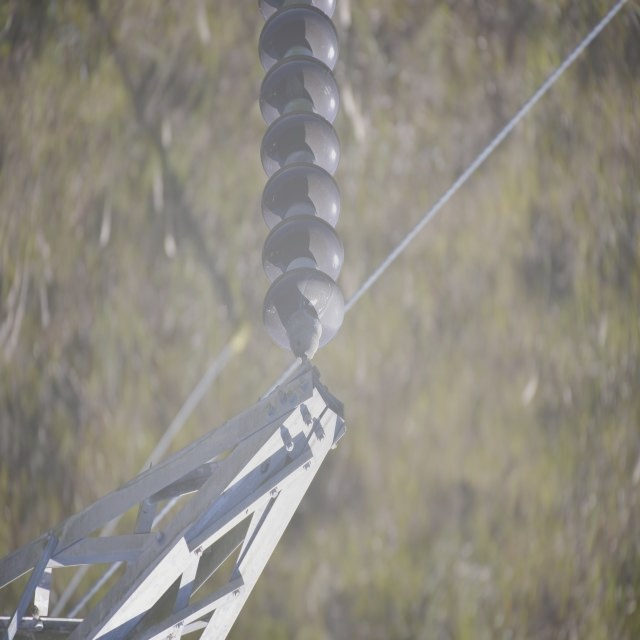insulator: (251, 0, 346, 352)
